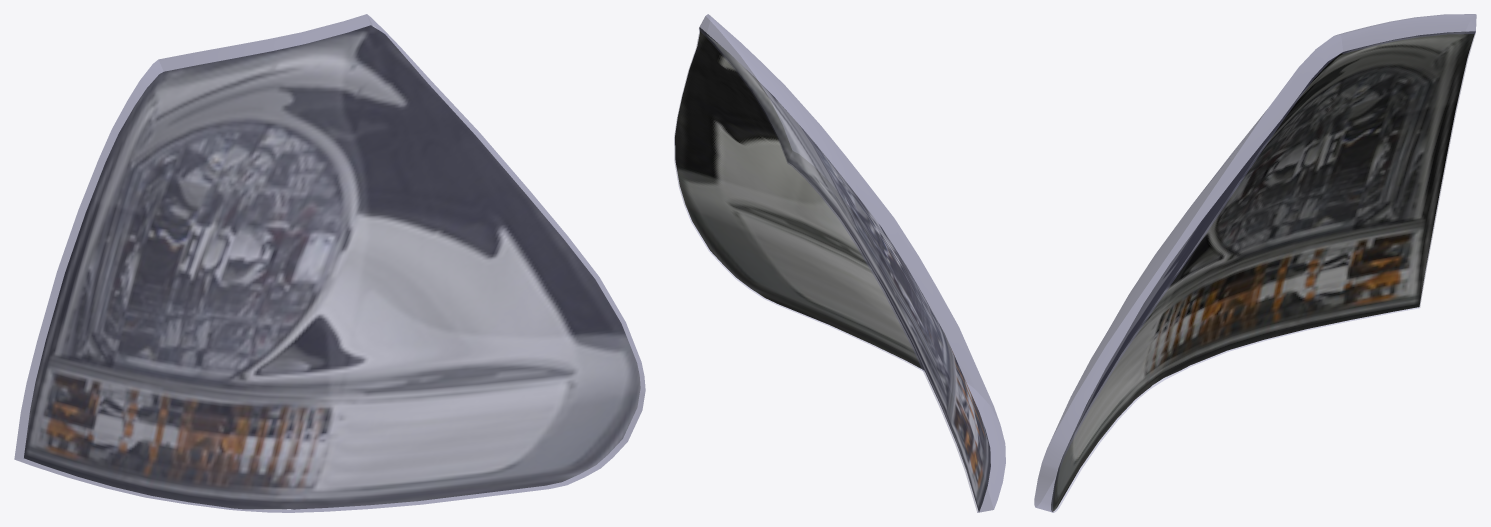
3 renders of one model, left to right at view 1: azimuth 30°, elevation 25°; view 2: azimuth 150°, elevation 25°; view 3: azimuth 270°, elevation 25°, orthographic. The views are drawn at different scales.
Visible parts, largest first — view 1: LX61_541C_R_LX61_541C_R_2_DTaSI, LX61_541C_R_1_N_LX61_541C_R; view 2: LX61_541C_R_1_N_LX61_541C_R, LX61_541C_R_LX61_541C_R_2_DTaSI; view 3: LX61_541C_R_1_N_LX61_541C_R, LX61_541C_R_LX61_541C_R_2_DTaSI.
Boxes of the visible parts, x1=… form: LX61_541C_R_LX61_541C_R_2_DTaSI: x1=14, y1=14, x2=645, y2=512; LX61_541C_R_1_N_LX61_541C_R: x1=24, y1=25, x2=640, y2=509; LX61_541C_R_1_N_LX61_541C_R: x1=675, y1=27, x2=990, y2=511; LX61_541C_R_LX61_541C_R_2_DTaSI: x1=674, y1=14, x2=1005, y2=512; LX61_541C_R_1_N_LX61_541C_R: x1=1051, y1=31, x2=1475, y2=511; LX61_541C_R_LX61_541C_R_2_DTaSI: x1=1034, y1=14, x2=1476, y2=512.
Bounding box in the file's own units: 33.02 × 26.7 × 24.25.
